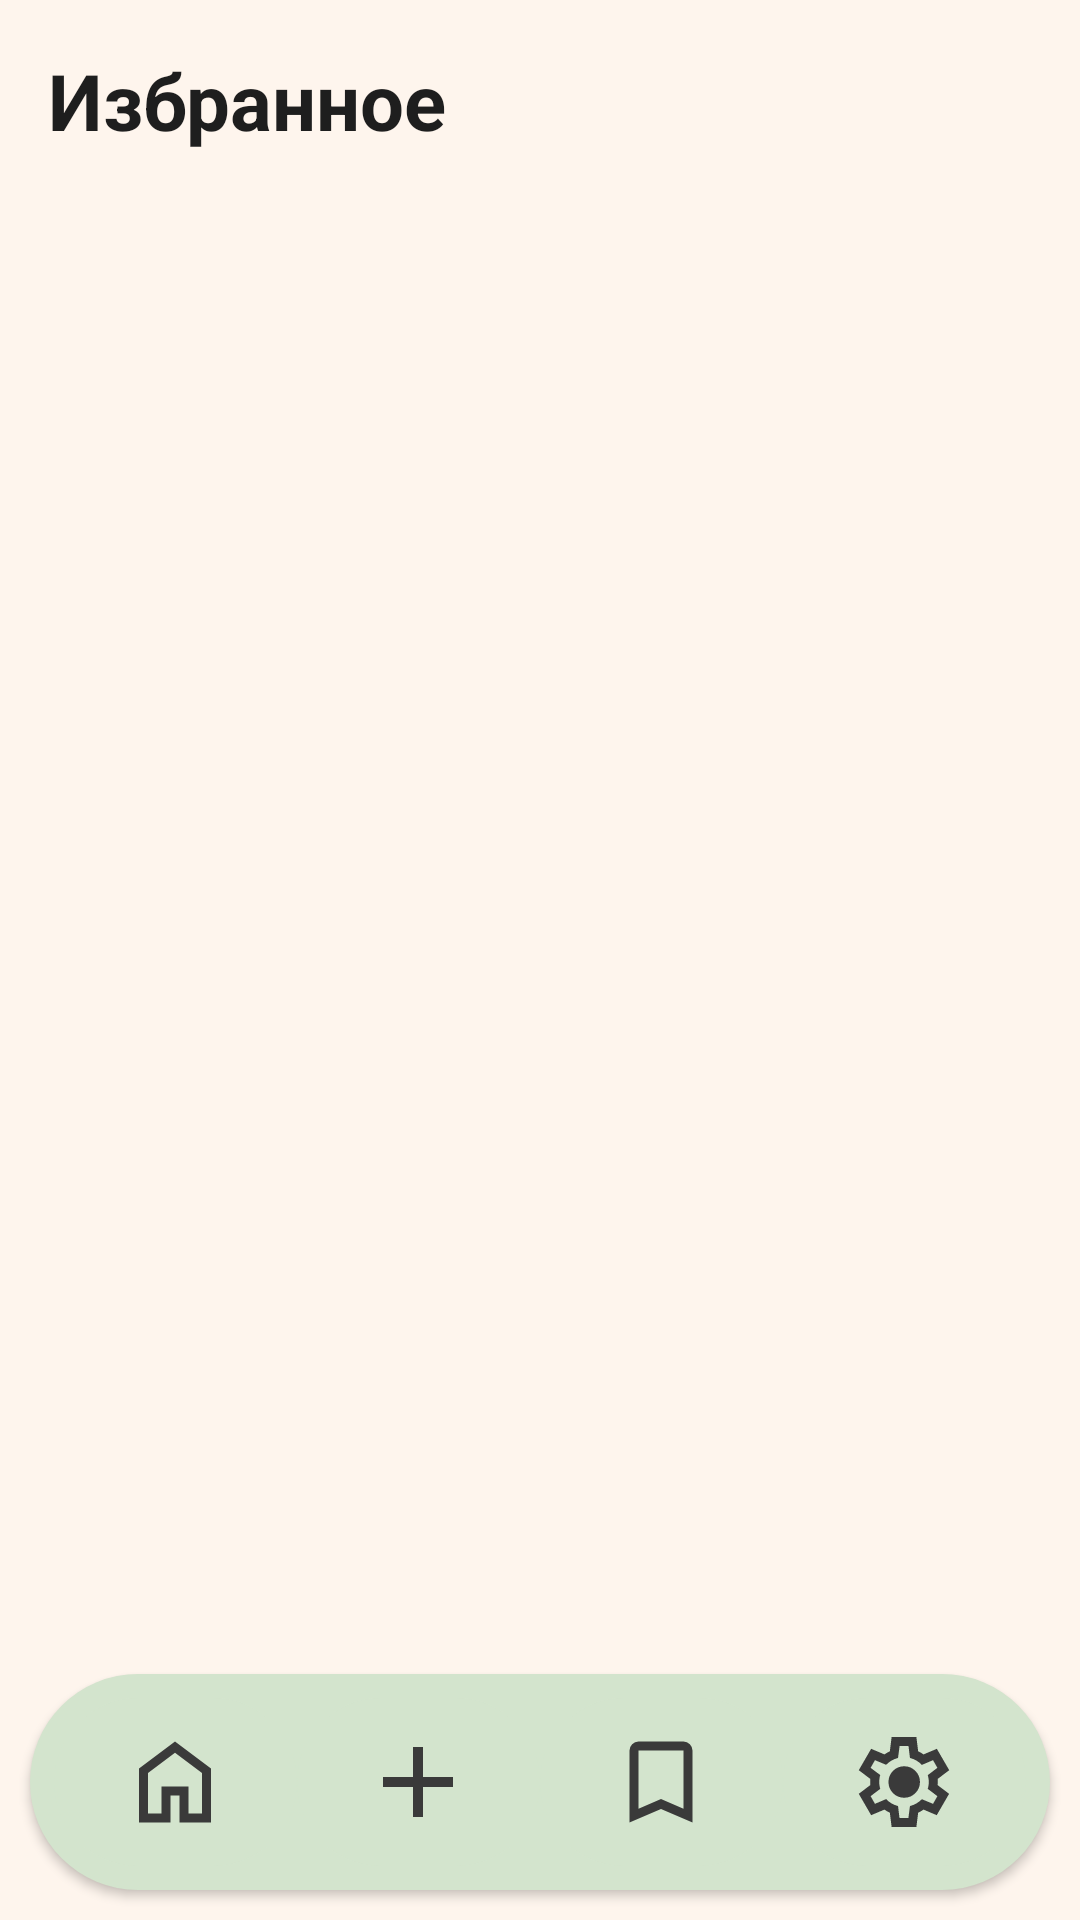

Named icons in this screenshot (1080px×1920px) and their centers, point (x, y):
add: point (418, 1782)
bookmark: point (661, 1782)
home: point (175, 1782)
settings: point (904, 1782)
